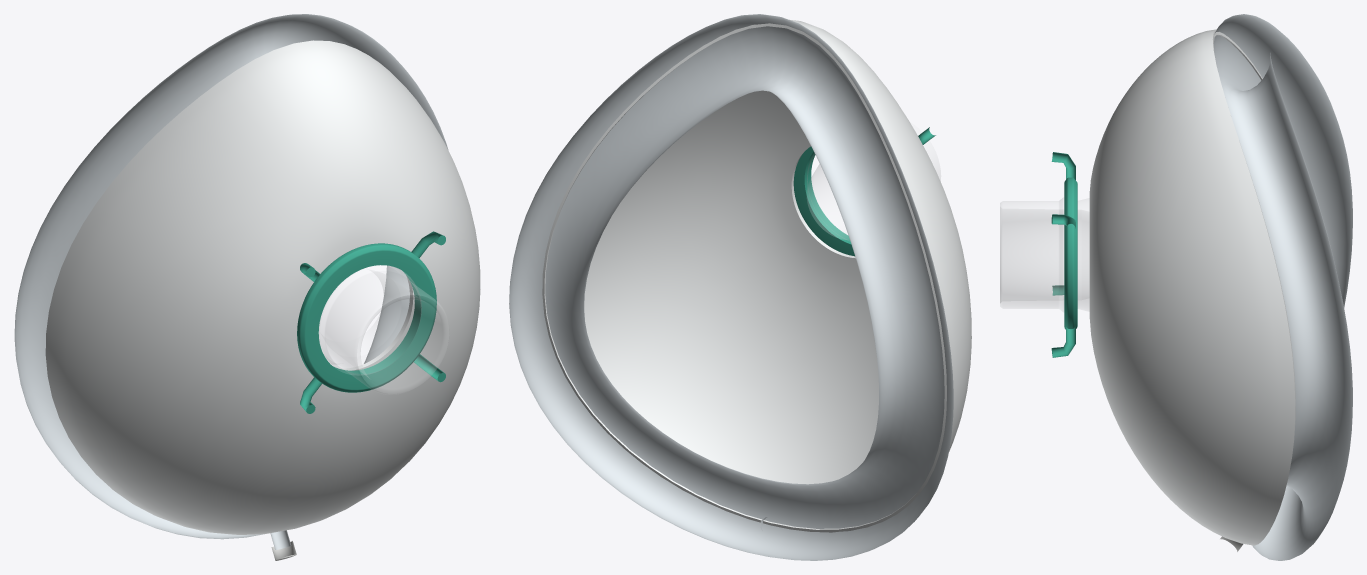
The model's file is face_mask_adult.glb.
3 renders of one model, left to right at view 1: azimuth 30°, elevation 25°; view 2: azimuth 150°, elevation 25°; view 3: azimuth 270°, elevation 25°, orthographic. The views are drawn at different scales.
Visible parts, largest first — view 1: dome, cushion, connector, hook_ring; view 2: cushion, dome, hook_ring, connector; view 3: dome, cushion, connector, hook_ring.
Boxes of the visible parts, x1,y1,x2,y2 form: dome: (45, 40, 480, 534); cushion: (14, 14, 448, 560); connector: (319, 265, 449, 394); hook_ring: (297, 231, 445, 413); cushion: (509, 14, 953, 560); dome: (542, 19, 971, 532); hook_ring: (793, 127, 935, 256); connector: (807, 122, 940, 240); dome: (1089, 29, 1295, 545); cushion: (1213, 14, 1352, 560); connector: (1000, 198, 1089, 311); hook_ring: (1051, 152, 1077, 357).
Size of the model in its own units: 0.1216 by 0.1427 by 0.0866.
